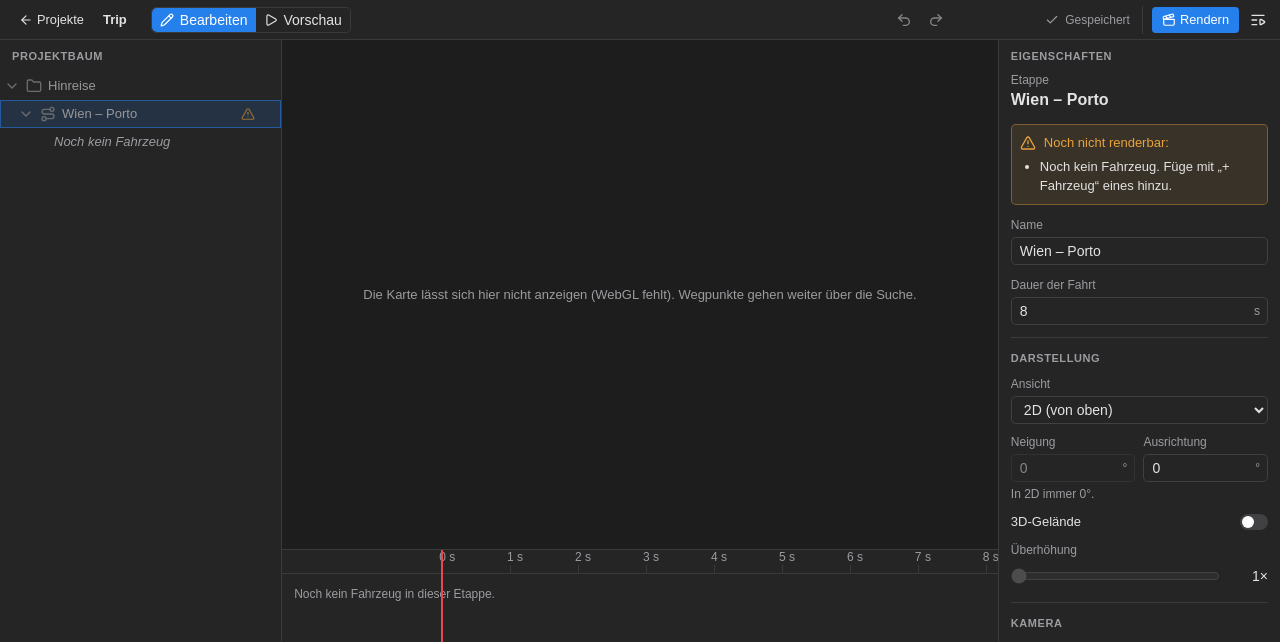
Test case: Inspector › keeps a flat 2D view at 0° and tilts a 3D view
Check: the heading "Trip" is shown, box x1=103 y1=10 x2=127 y2=29
Check: the field labelled "Neigung" is disabled, box x1=1011 y1=454 x2=1135 y2=482
Step 1. Select "3D geneigt" in the dropdown labelled "Ansicht" → (1139,410), box x1=1011 y1=396 x2=1268 y2=424
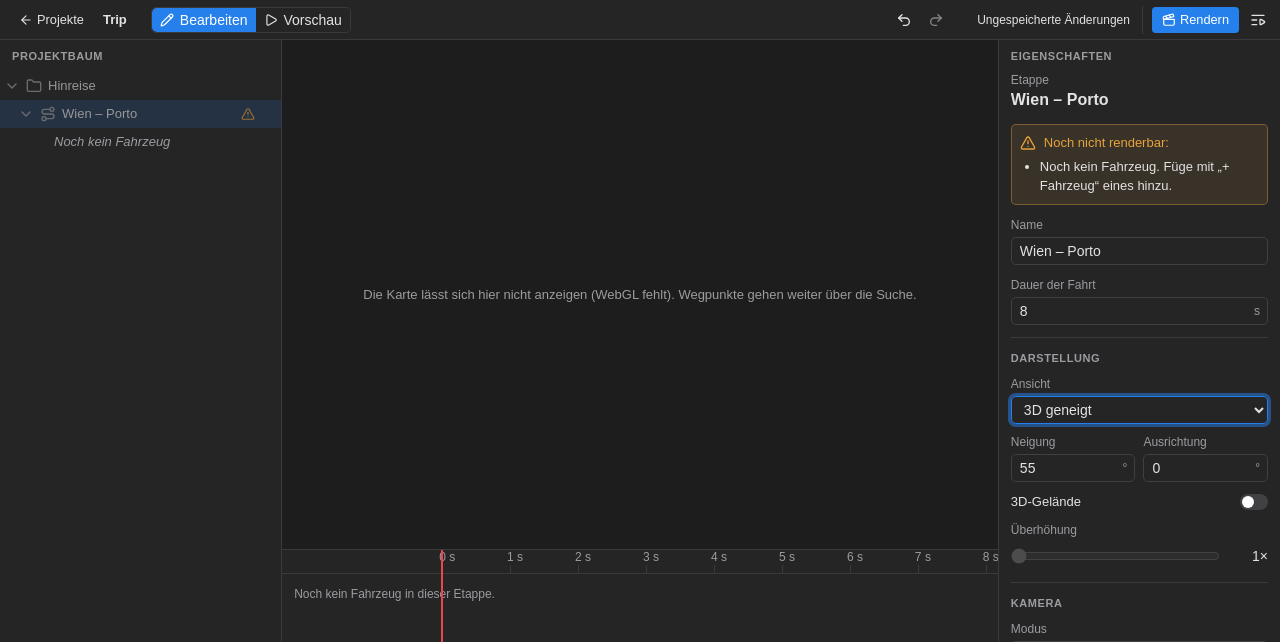
Check: the field labelled "Neigung" is enabled, box x1=1011 y1=454 x2=1135 y2=482
Check: the field labelled "Neigung" holds "55", box x1=1011 y1=454 x2=1135 y2=482
